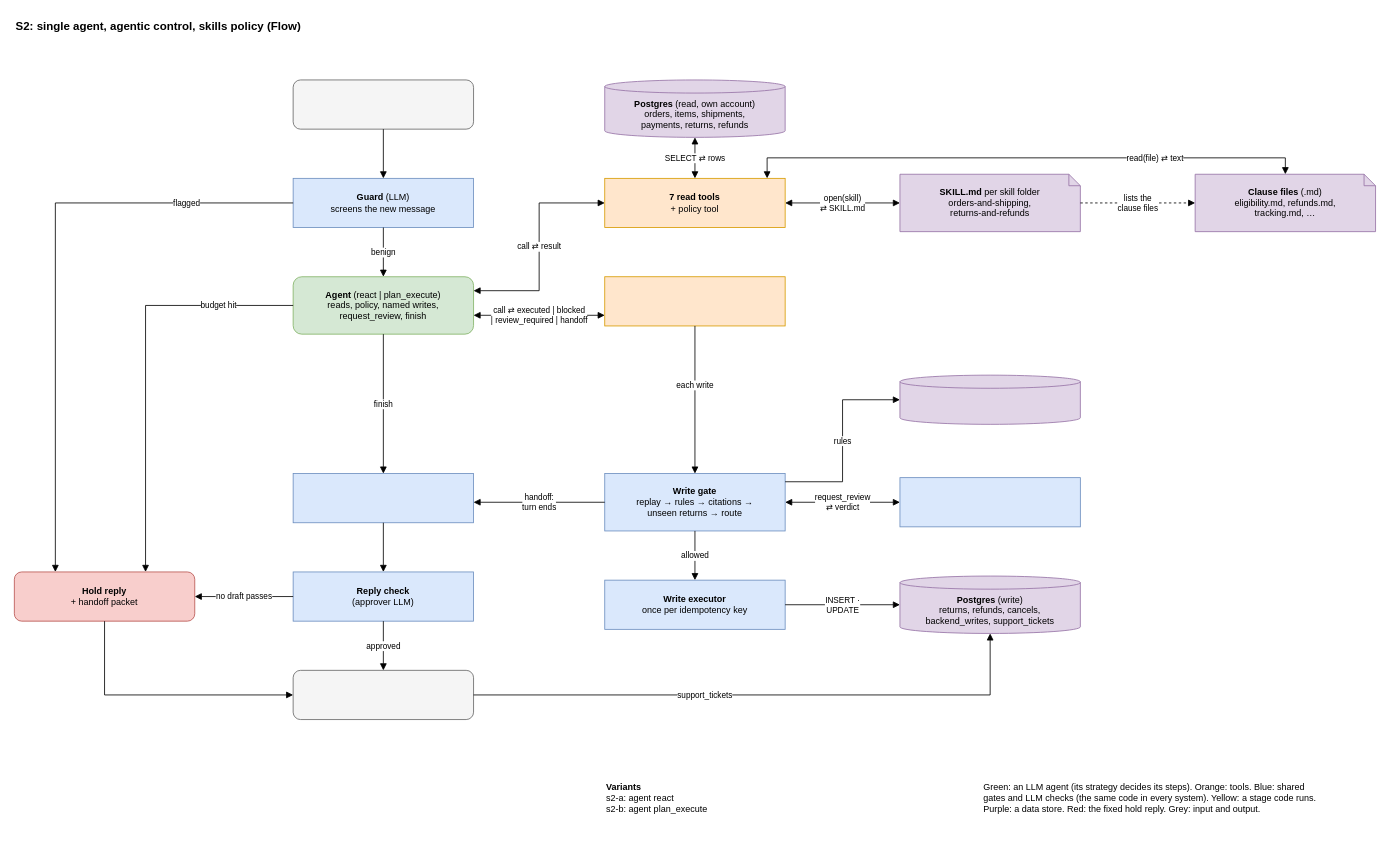
The diagram is 1390 pixels wide and 864 high, and some of its shapes have lost their labels. Here are the shapes that lost their labels. From the top down, the centre of each, then its label:
pixel 383 104: Customer message + history (untrusted)
pixel 694 301: Named write tools + request_review
pixel 989 399: rules.json hard limits
pixel 383 498: Reply writer (LLM) + wording checks (code)
pixel 989 502: Approver review (LLM) independent
pixel 383 695: Ticket save (code) support_tickets
